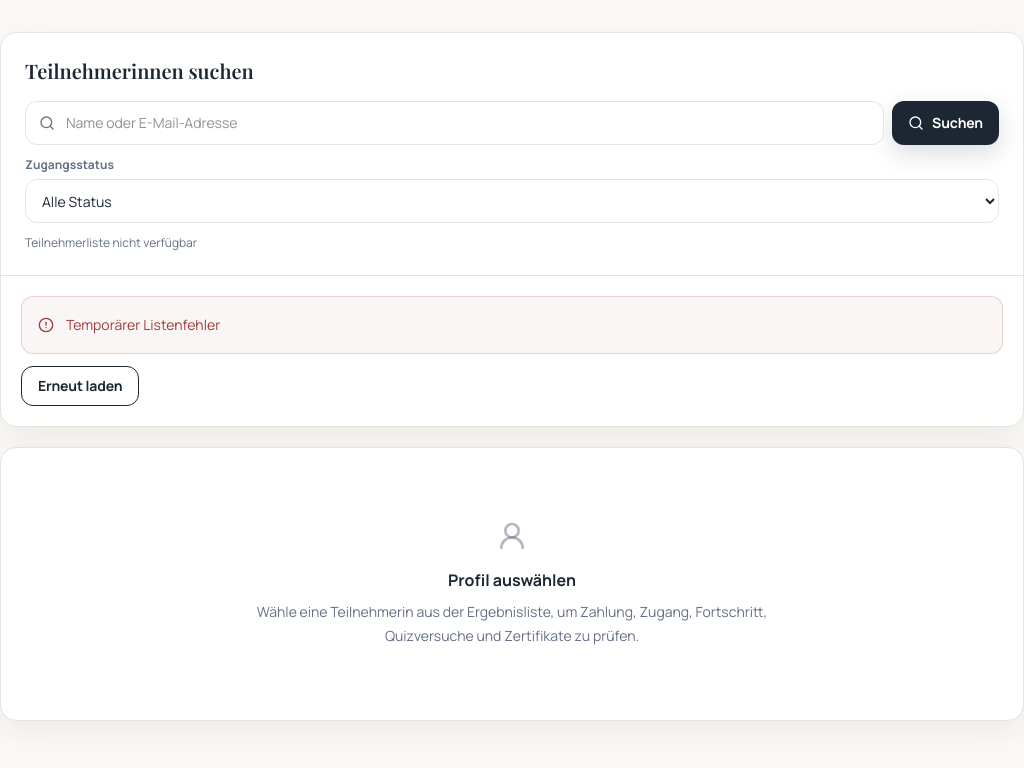
Admin-Teilnehmerverwaltung › zeigt Listenfehler an und lädt dieselbe Filterseite kontrolliert neu
expect the message reads "Temporärer Listenfehler": met, box [66,315,220,334]
Click the button "Erneut laden" at (80, 386), box [21,366,139,406]
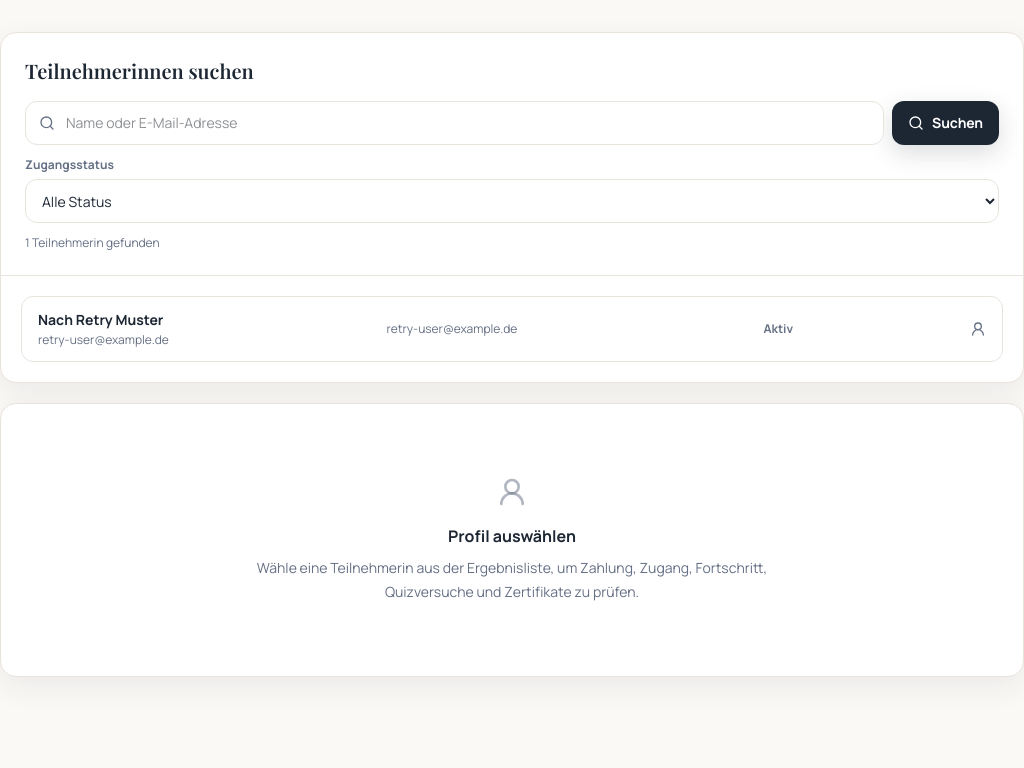
expect the text "Nach Retry Muster" is shown: met, box [38,310,164,329]
